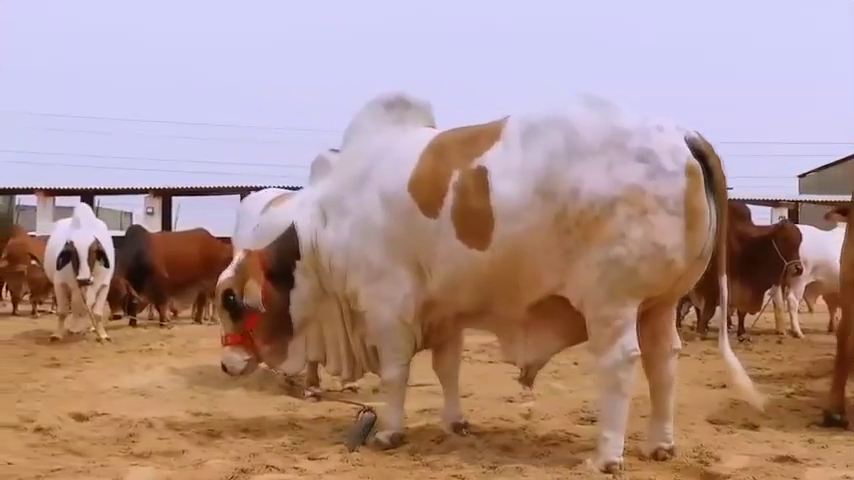bo: (208, 83, 770, 474), (690, 190, 803, 342), (106, 213, 240, 338), (35, 192, 122, 342), (773, 213, 850, 343), (2, 225, 60, 324)
